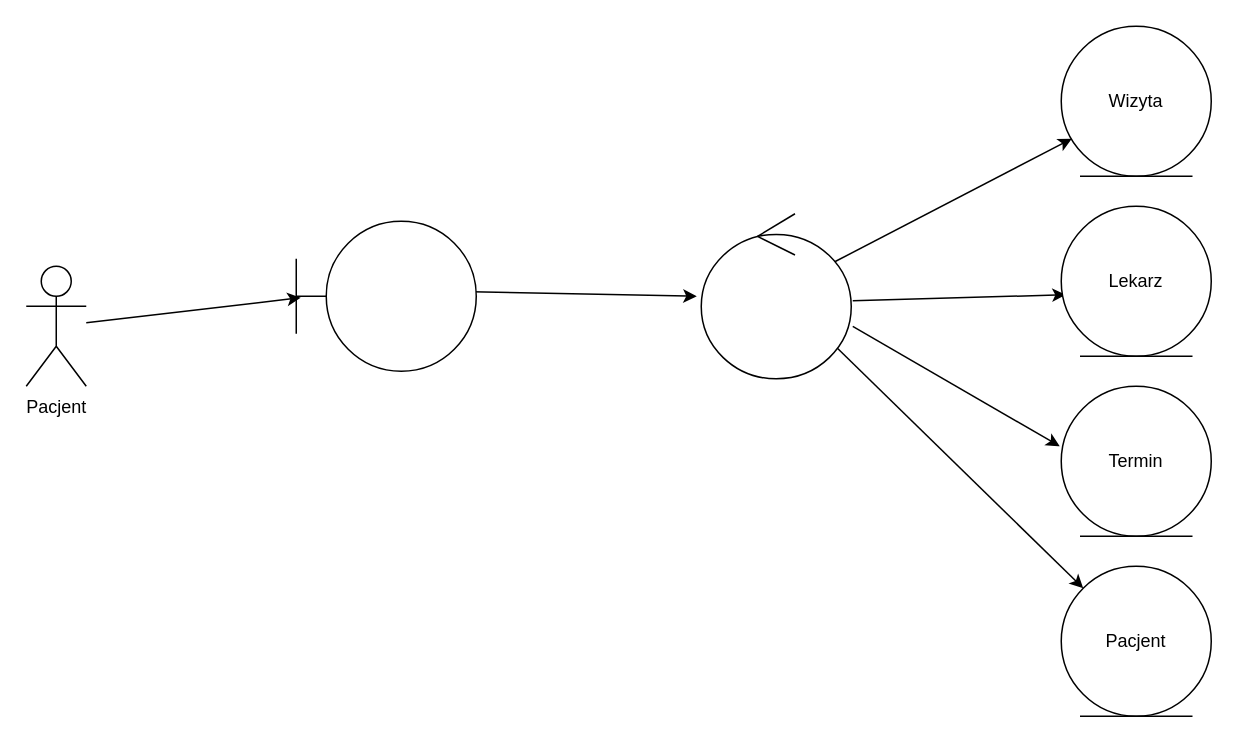
Image size: 1238x743. Some labels were removed from this diagram. The centre of each missing label's shape, as x and y in pixels:
"Okno Rezerwacji Wizyty" belongs at [385,295].
"Rezerwacja Wizyty" belongs at [775,295].
